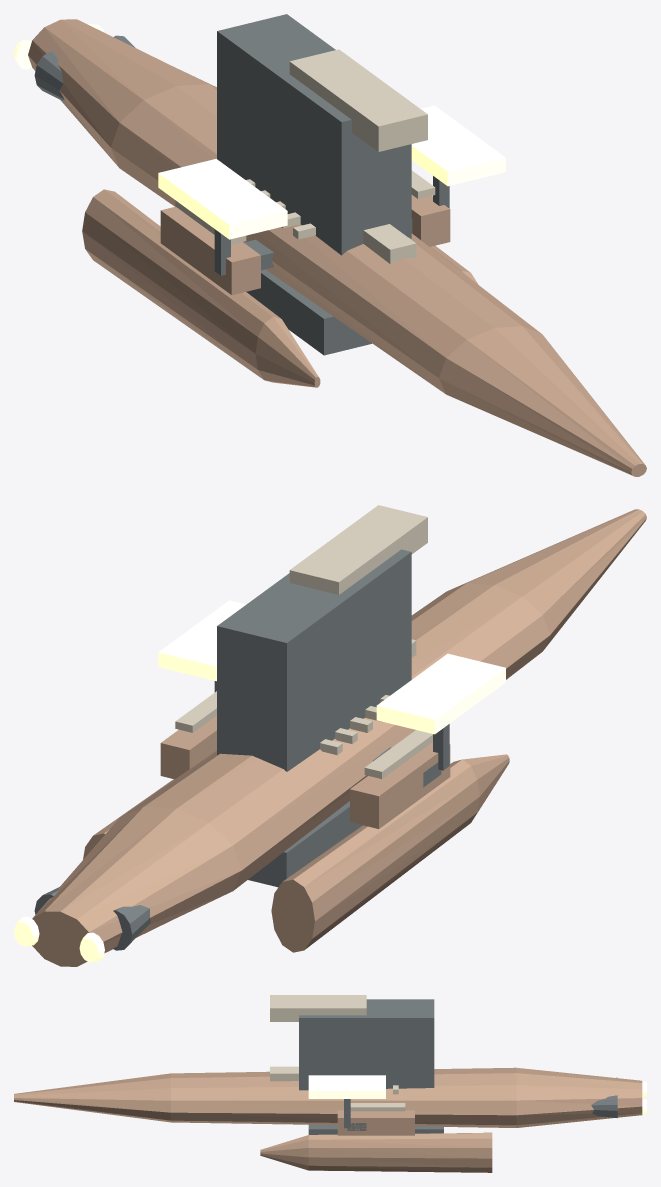
The picture shows the model from 3 angles, top to bottom: view 1: azimuth 30°, elevation 25°; view 2: azimuth 150°, elevation 25°; view 3: azimuth 270°, elevation 25°; orthographic projection. The views are drawn at different scales.
Size of the model in its own units: 3.23 by 3 by 11.79.
